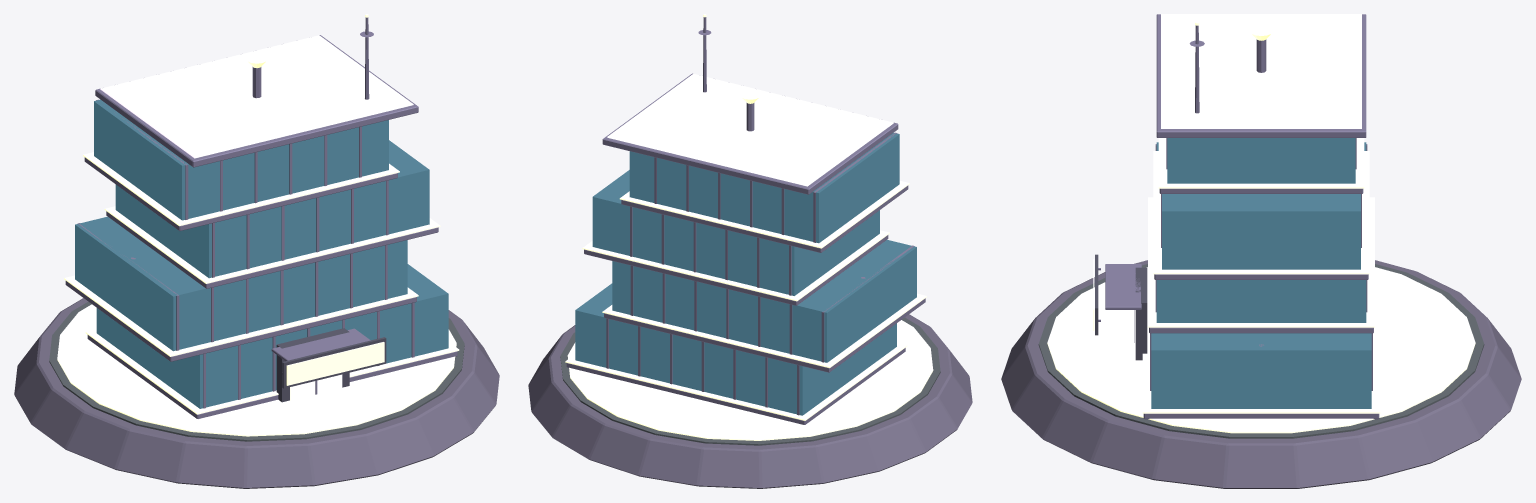
The model's file is cloud_embassy.glb.
3 views of the same model, side by side, from view 1: azimuth 30°, elevation 25°; view 2: azimuth 150°, elevation 25°; view 3: azimuth 270°, elevation 25° (orthographic). The views are drawn at different scales.
Visible parts, largest first — view 1: cloud_embassy_BlackGlass, cloud_embassy_Concrete@cloud, cloud_embassy_Amber, cloud_embassy_Violet, cloud_embassy_Steel@cloud, cloud_embassy_Sidewalk, cloud_embassy_DarkAlloy@cloud, cloud_embassy_WarmGlass; view 2: cloud_embassy_BlackGlass, cloud_embassy_Concrete@cloud, cloud_embassy_Amber, cloud_embassy_Violet, cloud_embassy_Steel@cloud, cloud_embassy_Sidewalk; view 3: cloud_embassy_BlackGlass, cloud_embassy_Concrete@cloud, cloud_embassy_Amber, cloud_embassy_Violet, cloud_embassy_Steel@cloud, cloud_embassy_Sidewalk, cloud_embassy_DarkAlloy@cloud.
Boxes of the visible parts, left/top/right/bottom form: cloud_embassy_BlackGlass: left=75, top=99, right=448, bottom=408; cloud_embassy_Concrete@cloud: left=14, top=298, right=499, bottom=488; cloud_embassy_Amber: left=57, top=14, right=459, bottom=436; cloud_embassy_Violet: left=100, top=35, right=413, bottom=158; cloud_embassy_Steel@cloud: left=65, top=17, right=457, bottom=418; cloud_embassy_Sidewalk: left=49, top=301, right=464, bottom=441; cloud_embassy_DarkAlloy@cloud: left=276, top=328, right=386, bottom=402; cloud_embassy_WarmGlass: left=290, top=374, right=342, bottom=400; cloud_embassy_BlackGlass: left=575, top=132, right=916, bottom=415; cloud_embassy_Concrete@cloud: left=528, top=314, right=972, bottom=488; cloud_embassy_Amber: left=565, top=14, right=933, bottom=440; cloud_embassy_Violet: left=607, top=73, right=893, bottom=186; cloud_embassy_Steel@cloud: left=566, top=17, right=925, bottom=424; cloud_embassy_Sidewalk: left=560, top=317, right=940, bottom=445; cloud_embassy_BlackGlass: left=1151, top=138, right=1371, bottom=408; cloud_embassy_Concrete@cloud: left=1001, top=260, right=1521, bottom=488; cloud_embassy_Amber: left=1047, top=22, right=1475, bottom=433; cloud_embassy_Violet: left=1161, top=14, right=1361, bottom=128; cloud_embassy_Steel@cloud: left=1098, top=14, right=1379, bottom=419; cloud_embassy_Sidewalk: left=1038, top=264, right=1484, bottom=438; cloud_embassy_DarkAlloy@cloud: left=1095, top=254, right=1147, bottom=360.
Bounding box in the file's own units: 24.06 × 20.58 × 24.29.
